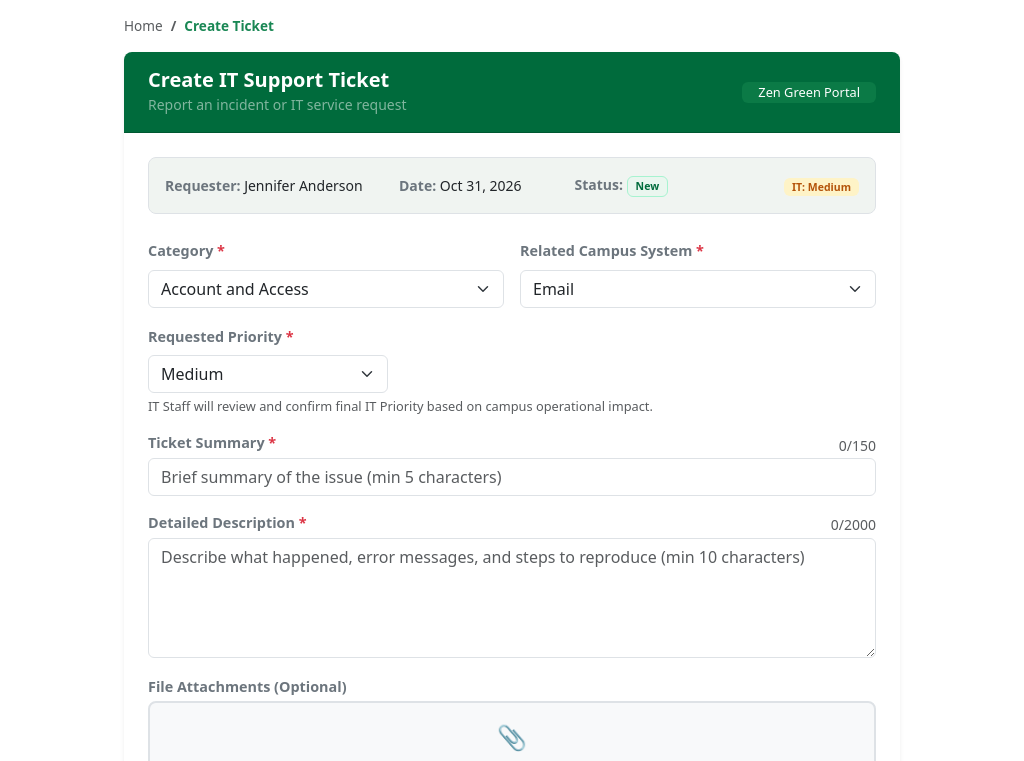
Test case: CreateTicket Component Tests (UI-02, UI-03, UI-04) › UI-04: preserves all entered form values upon API failure (AC-06, BR-13)
This screenshot has width=1024, height=761.
Expected: the dropdown showing "Account and Access" is shown, [148, 270, 504, 308]
In the field with test id "summary-input": {"x": 512, "y": 477} [148, 458, 876, 496], type "Preserve this summary after 500 error"
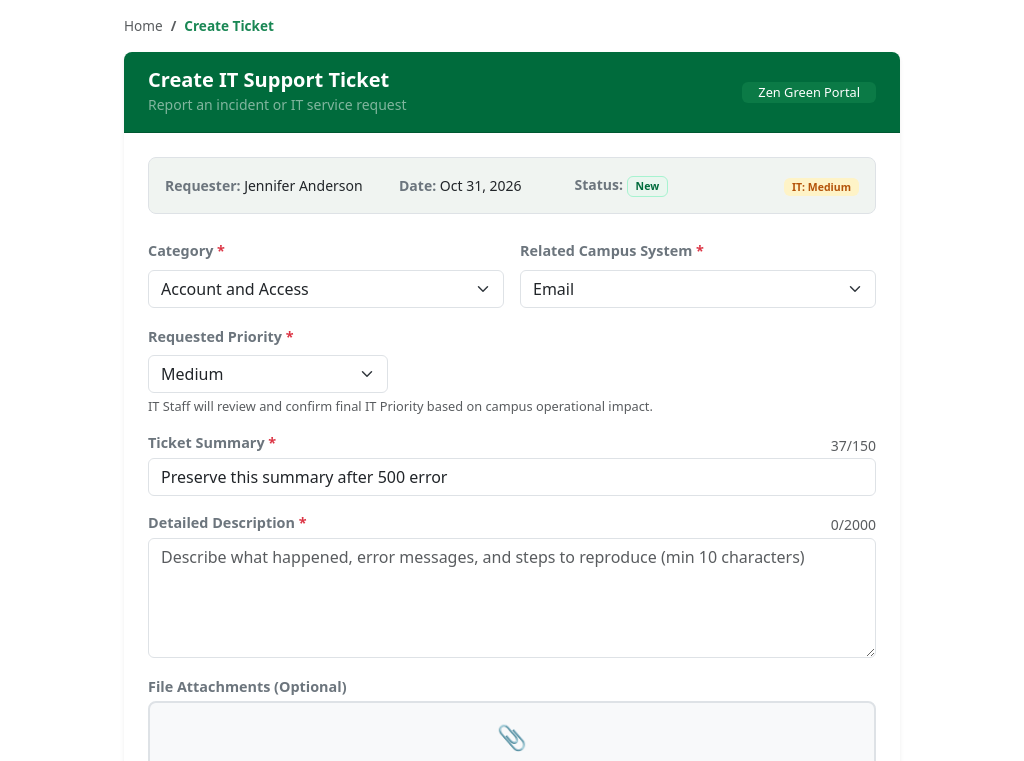
Replace the text in the text box with test id "description-input" with "Preserve this description after server failure happens.": {"x": 512, "y": 598} [148, 538, 876, 658]
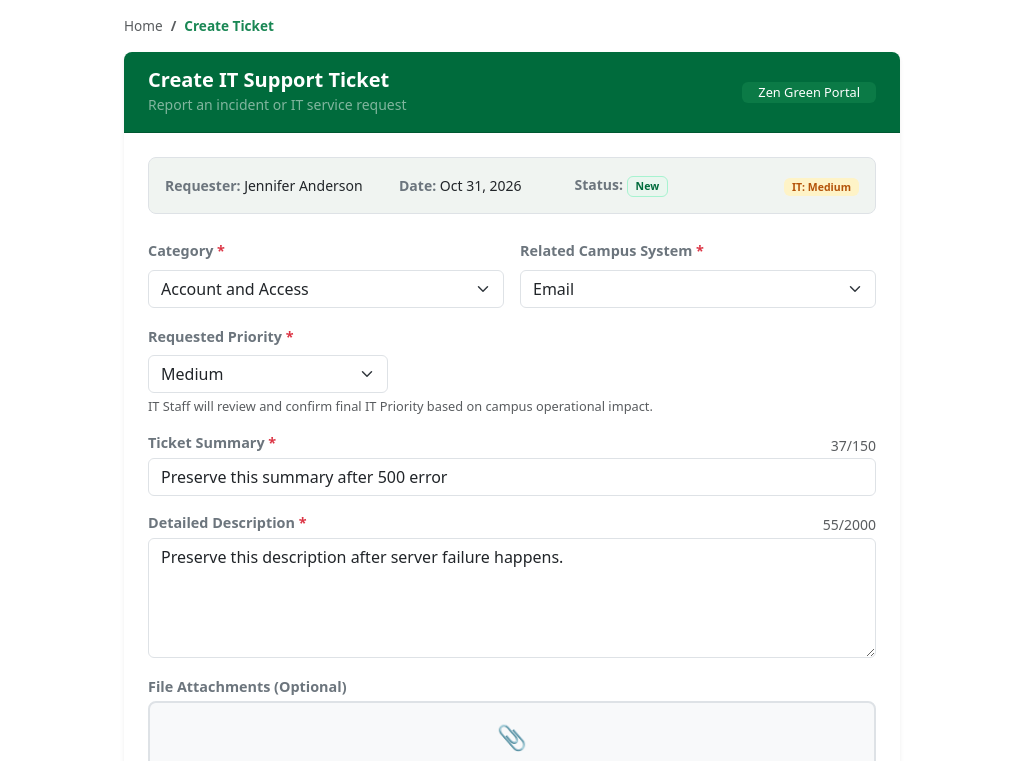
Select "Urgent" in the dropdown with test id "priority-select": {"x": 268, "y": 374} [148, 355, 388, 393]
(page scrolled)
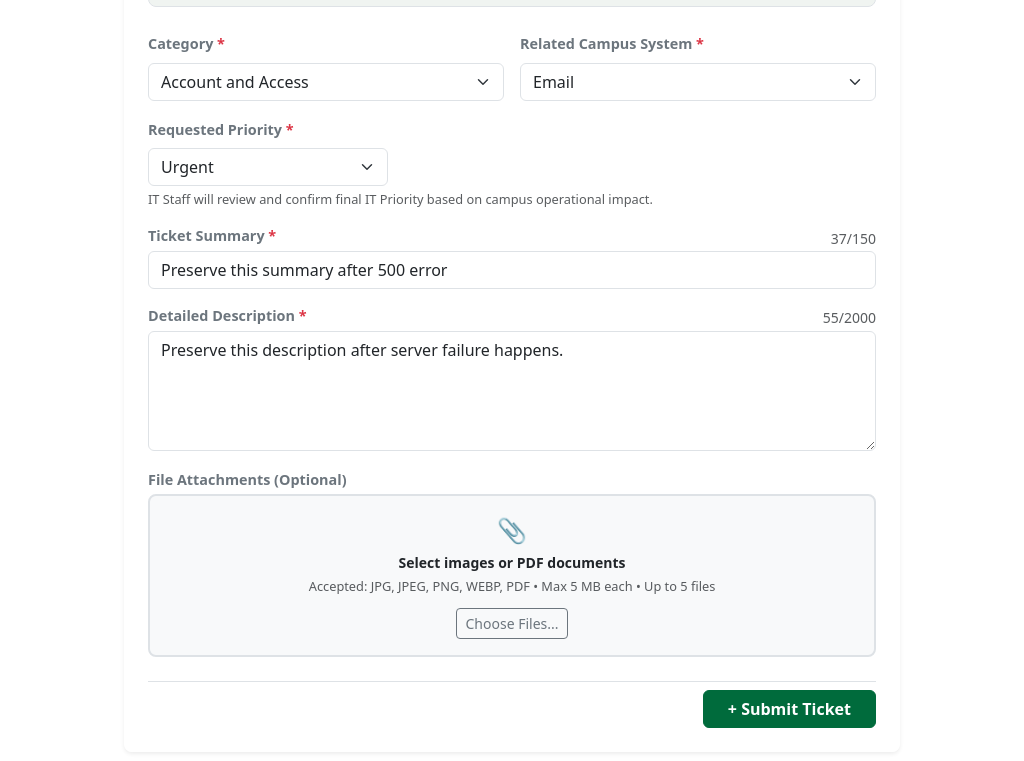
Click the button with test id "submit-ticket-btn": {"x": 789, "y": 709} [703, 690, 876, 728]
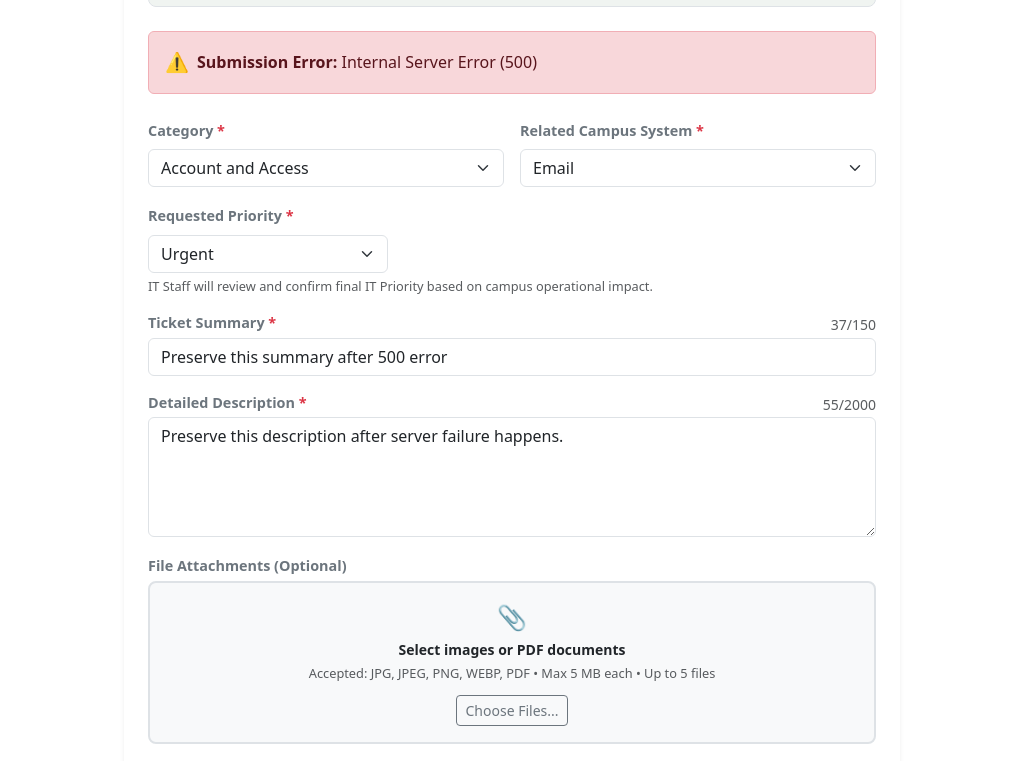
Now the text "Internal Server Error (500)" is shown, box [342, 51, 537, 73]
